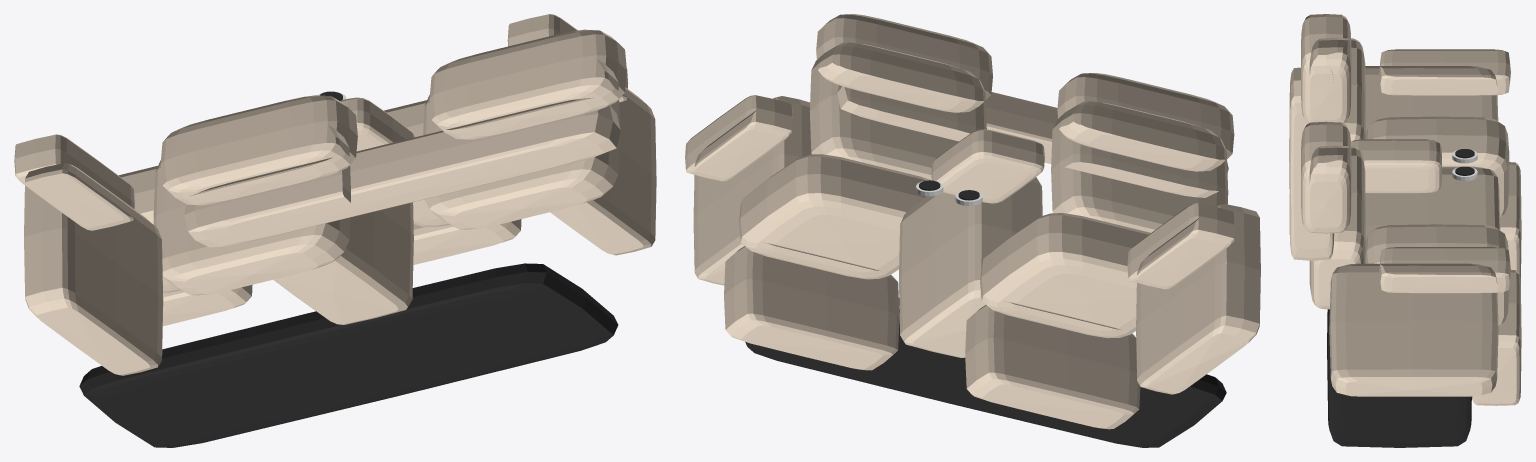
The model's file is drake-2-seater-console.glb.
The picture shows the model from 3 angles, left to right: view 1: azimuth 30°, elevation 25°; view 2: azimuth 150°, elevation 25°; view 3: azimuth 270°, elevation 25°; orthographic projection. The views are drawn at different scales.
Parts seen in each view (by area): view 1: lower_base, back_shell, arm_L, headrest_1, headrest_2, back_lower_1, console_body, back_lower_2, arm_R, armcap_L, front_apron_2, front_apron_1 (+4 smaller); view 2: seat_cushion_2, front_apron_2, front_apron_1, seat_cushion_1, arm_L, console_body, back_lower_1, back_lower_2, lower_base, headrest_2, headrest_1, arm_R (+4 smaller); view 3: arm_R, lower_base, console_body, seat_cushion_1, headrest_2, armcap_L, armcap_R, headrest_1, arm_L, console_lid, back_lower_2, seat_cushion_2 (+4 smaller).
Part boxes in pixels (left/top/right/bottom): lower_base: left=79, top=263, right=618, bottom=447; back_shell: left=184, top=97, right=620, bottom=247; arm_L: left=24, top=163, right=163, bottom=375; headrest_1: left=160, top=95, right=357, bottom=205; headrest_2: left=429, top=29, right=626, bottom=139; back_lower_1: left=153, top=125, right=350, bottom=295; console_body: left=273, top=202, right=413, bottom=324; back_lower_2: left=423, top=59, right=619, bottom=229; arm_R: left=550, top=87, right=656, bottom=255; armcap_L: left=14, top=134, right=134, bottom=230; front_apron_2: left=413, top=219, right=521, bottom=264; front_apron_1: left=162, top=285, right=252, bottom=326; seat_cushion_2: left=739, top=154, right=931, bottom=279; front_apron_2: left=724, top=242, right=899, bottom=370; front_apron_1: left=965, top=301, right=1140, bottom=429; seat_cushion_1: left=980, top=213, right=1150, bottom=338; arm_L: left=1136, top=204, right=1260, bottom=394; console_body: left=899, top=177, right=1042, bottom=357; back_lower_1: left=1051, top=101, right=1228, bottom=232; back_lower_2: left=809, top=42, right=986, bottom=180; lower_base: left=745, top=298, right=1226, bottom=447; headrest_2: left=816, top=14, right=992, bottom=112; headrest_1: left=1057, top=73, right=1234, bottom=171; arm_R: left=693, top=96, right=811, bottom=285; arm_R: left=1329, top=263, right=1498, bottom=396; lower_base: left=1327, top=309, right=1471, bottom=447; console_body: left=1365, top=166, right=1500, bottom=240; seat_cushion_1: left=1365, top=116, right=1509, bottom=216; headrest_2: left=1301, top=121, right=1351, bottom=233; armcap_L: left=1379, top=49, right=1510, bottom=95; armcap_R: left=1379, top=247, right=1510, bottom=293; headrest_1: left=1301, top=14, right=1351, bottom=123; arm_L: left=1365, top=66, right=1498, bottom=132; console_lid: left=1351, top=139, right=1441, bottom=193; back_lower_2: left=1309, top=145, right=1365, bottom=309; seat_cushion_2: left=1365, top=224, right=1509, bottom=325.
Bounding box in the file's own units: 1.84 × 1.02 × 0.83.
